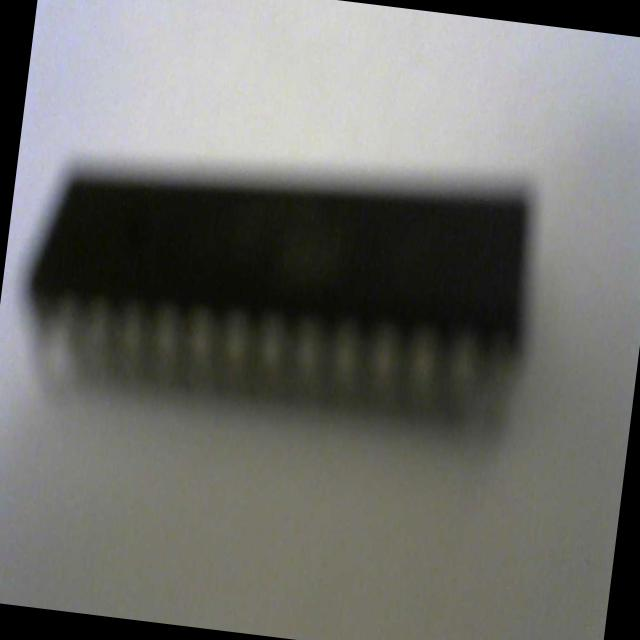atmega: (11, 126, 548, 456)
